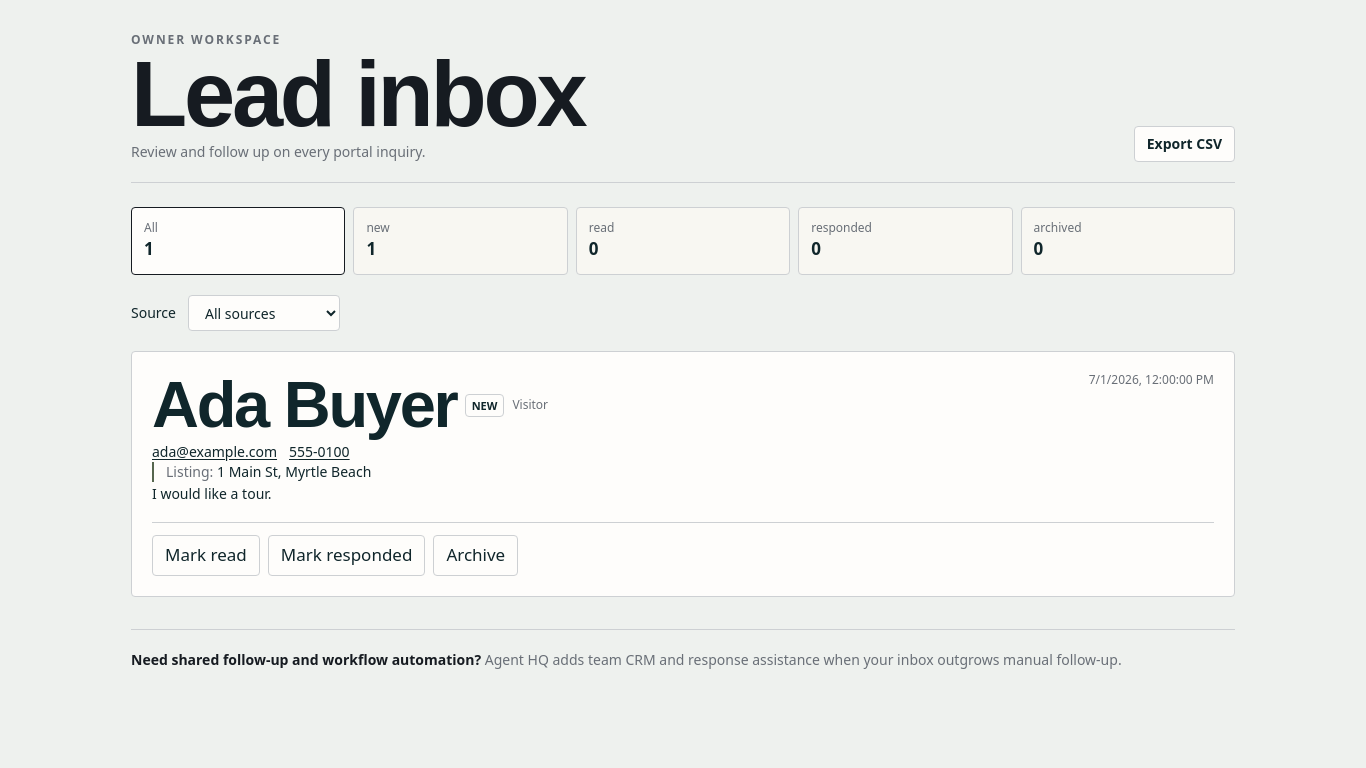
Test: OwnerLeadsInbox › updates a lead and exposes API errors
Click the button "Mark read".
click(206, 556)  # box x1=152 y1=536 x2=260 y2=576
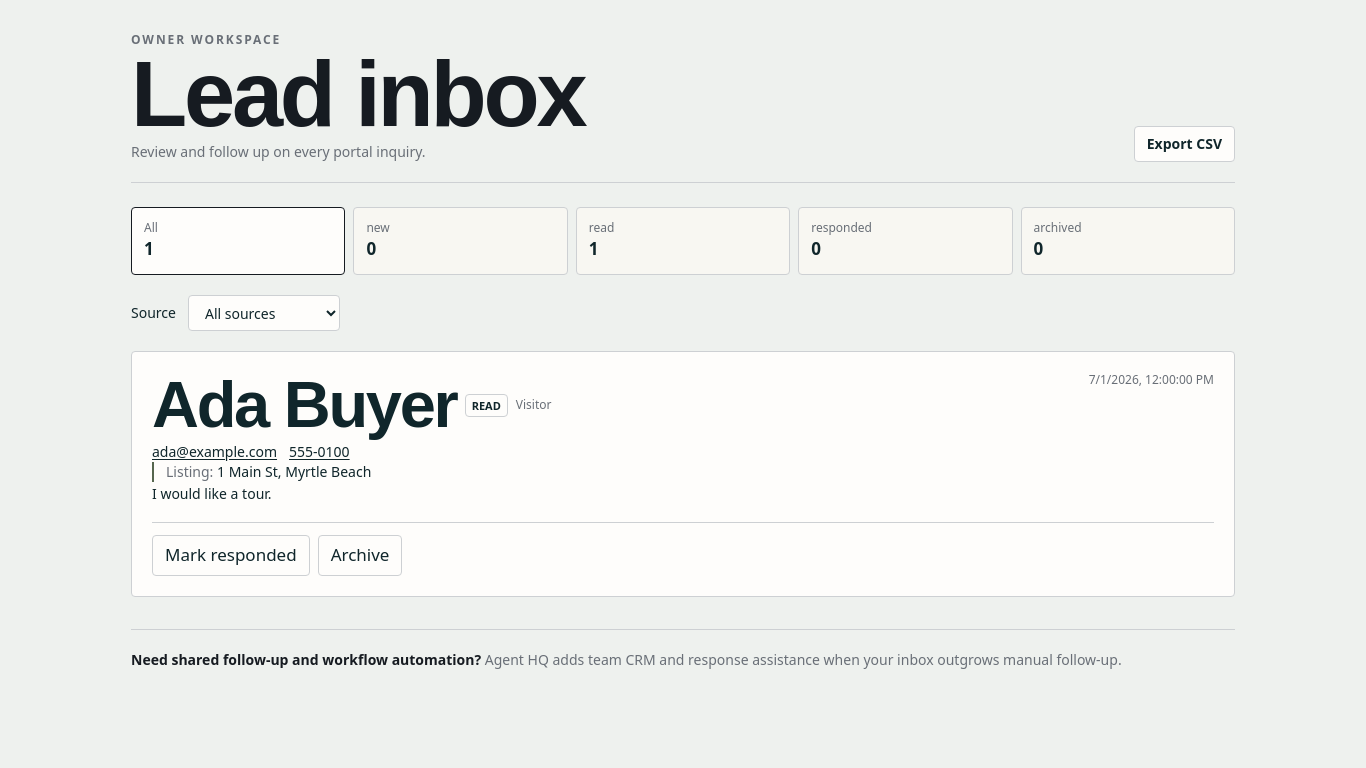
Check: the button "Mark read" is gone
Click the button "Archive".
click(360, 556)  # box x1=318 y1=536 x2=402 y2=576
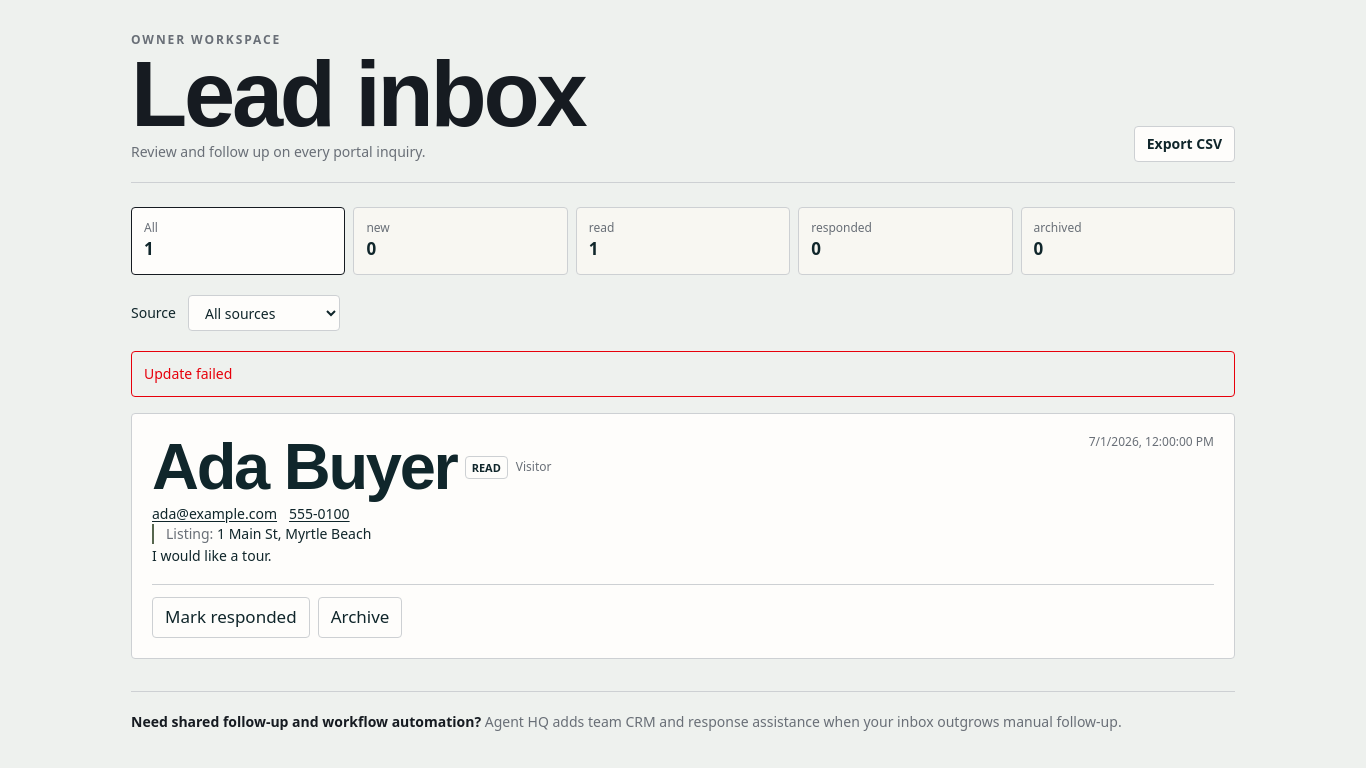
Check: the message reads "Update failed", box x1=144 y1=364 x2=232 y2=383
